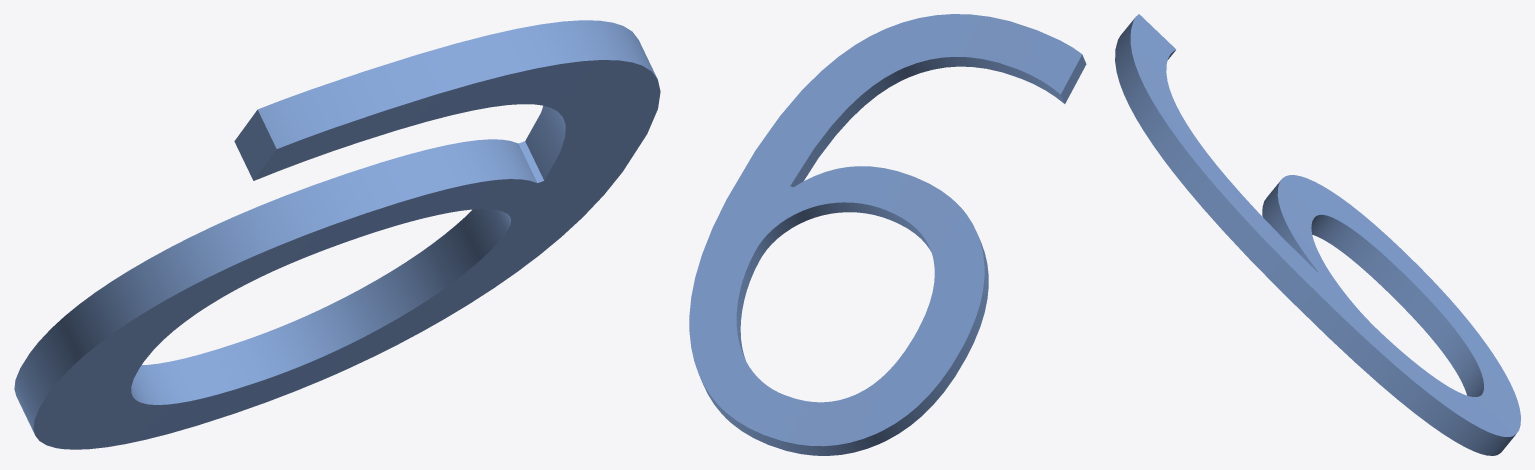
File: New_Number_6.gltf
3 renders of one model, left to right at view 1: azimuth 30°, elevation 25°; view 2: azimuth 150°, elevation 25°; view 3: azimuth 270°, elevation 25°, orthographic. The views are drawn at different scales.
Parts seen in each view (by area): view 1: Part 366; view 2: Part 366; view 3: Part 366.
Part boxes in pixels (box(x1,y1,x2,y2)): Part 366: box(14, 20, 660, 449); Part 366: box(689, 14, 1086, 455); Part 366: box(1115, 14, 1520, 455).
Bounding box in the file's own units: 0.0036 × 0.00411 × 0.00418.
